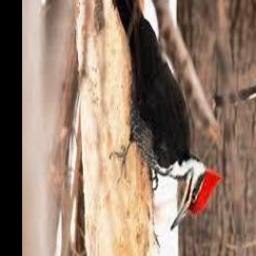Woodpecker: (112, 0, 222, 232)
